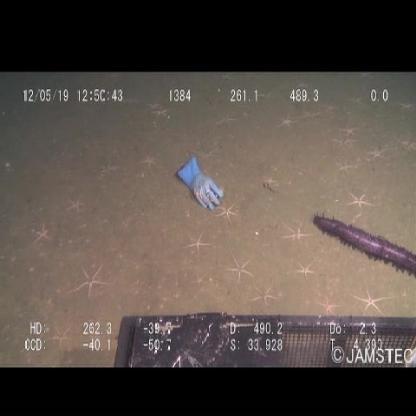Bio: (306, 204, 416, 282)
Rov: (109, 310, 416, 365)
Rác: (173, 150, 226, 221)
